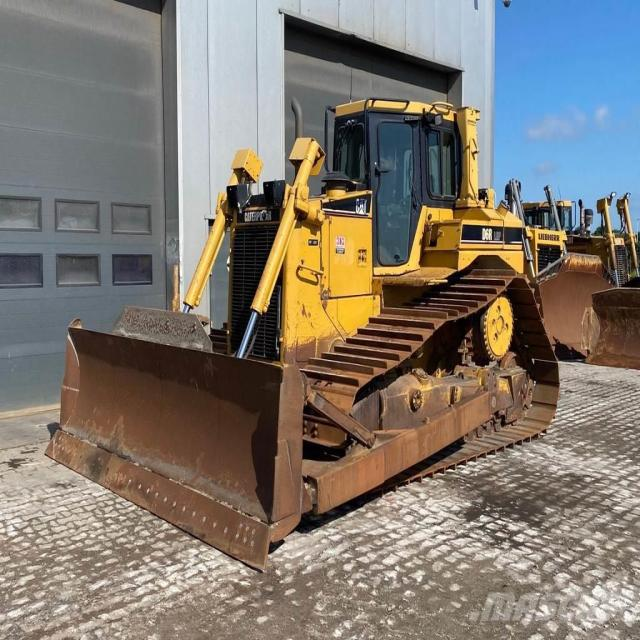buldozerpayloadergrader: (38, 66, 560, 568)
